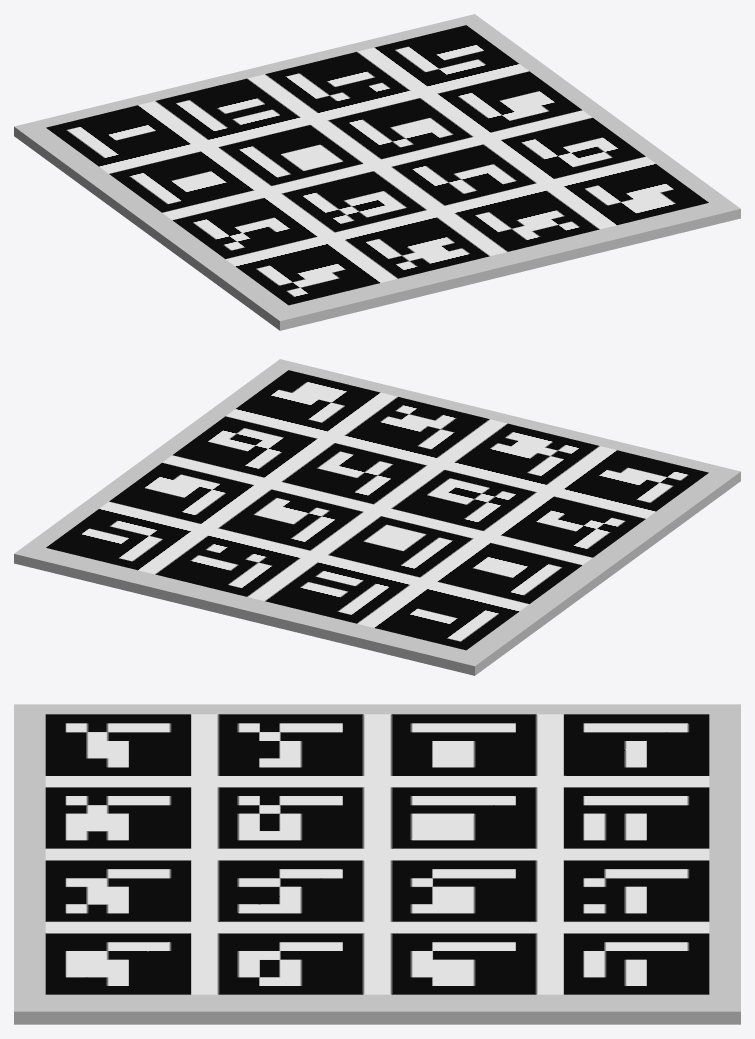
File: leeward_mid_marker_1.dae
3 renders of one model, top to bottom at view 1: azimuth 30°, elevation 25°; view 2: azimuth 150°, elevation 25°; view 3: azimuth 270°, elevation 25°, orthographic. The views are drawn at different scales.
Parts seen in each view (by area): view 1: leeward_mid_1; view 2: leeward_mid_1; view 3: leeward_mid_1.
Part boxes in pixels (<box>): leeward_mid_1: <box>14,14,740,330</box>; leeward_mid_1: <box>14,359,740,675</box>; leeward_mid_1: <box>14,704,740,1024</box>.
Bounding box in the file's own units: 0.2 × 0.2 × 0.005.
Materials: 2 (1 with a texture image).
